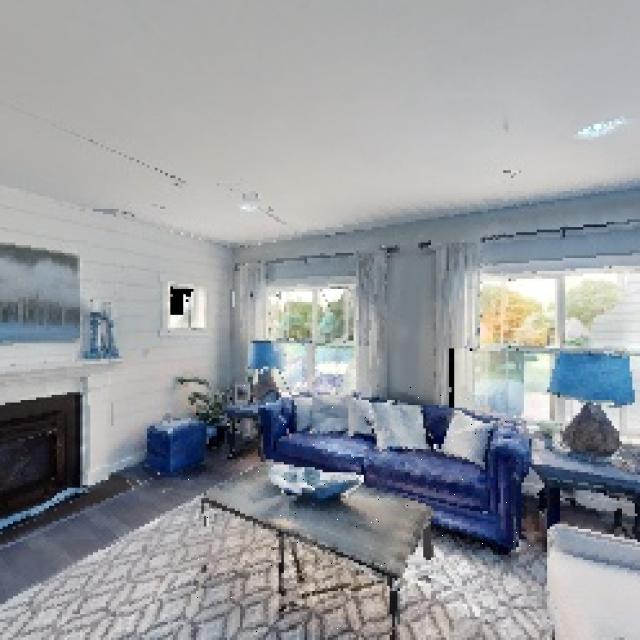sofa: (241, 380, 536, 568)
table: (186, 438, 444, 640)
